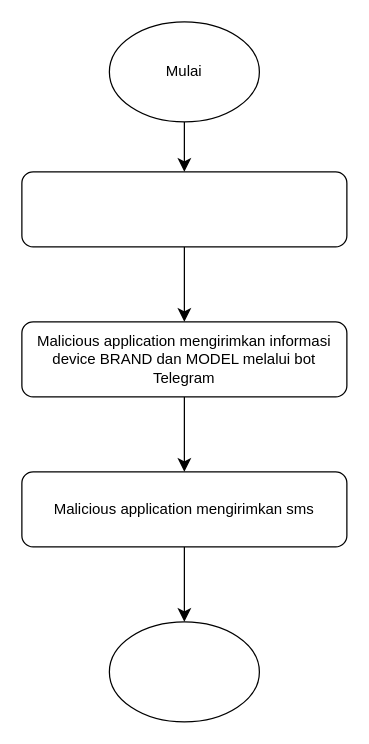
The diagram is 369 pixels wide and 744 high, and some of its shapes have lost their labels. Each missing label, with the box of its shape:
Selesai: (108, 621, 259, 722)
User mengizinkan permissions dari malicious application: (21, 171, 347, 247)
